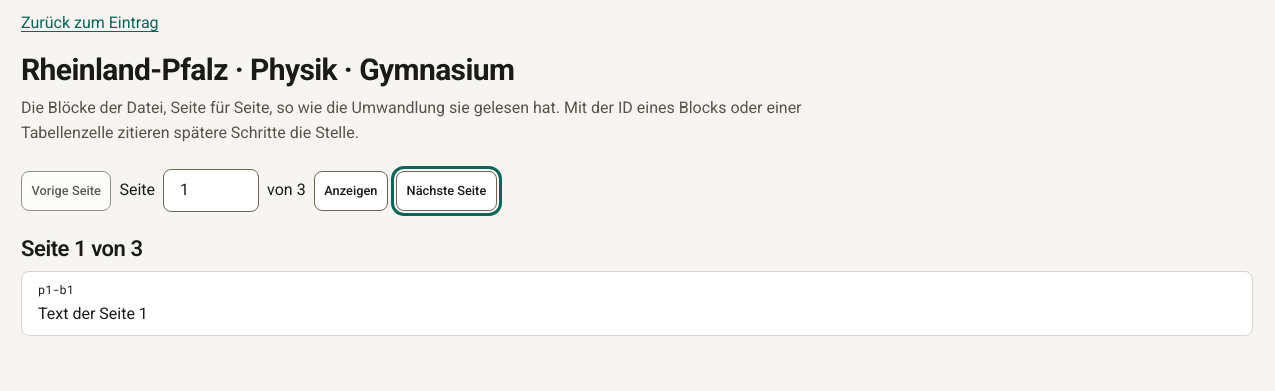
it: an entry's blocks › go to the next page and back by keyboard, the heading taking the focus and the move said
The image size is (1275, 391).
Step 1. Click the button with test id "next" → [446, 191], box 396,171 -> 497,211
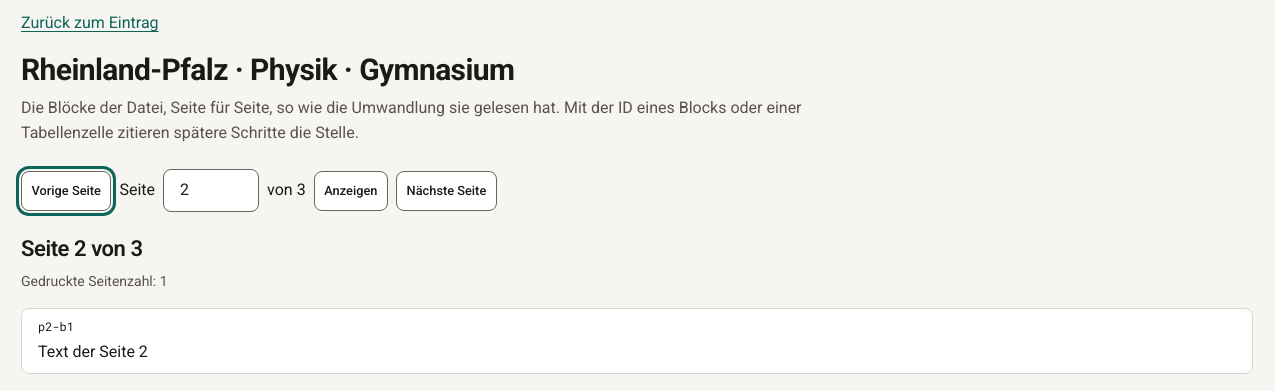
Step 2. Click the button with test id "previous" → [66, 191], box 21,171 -> 112,211
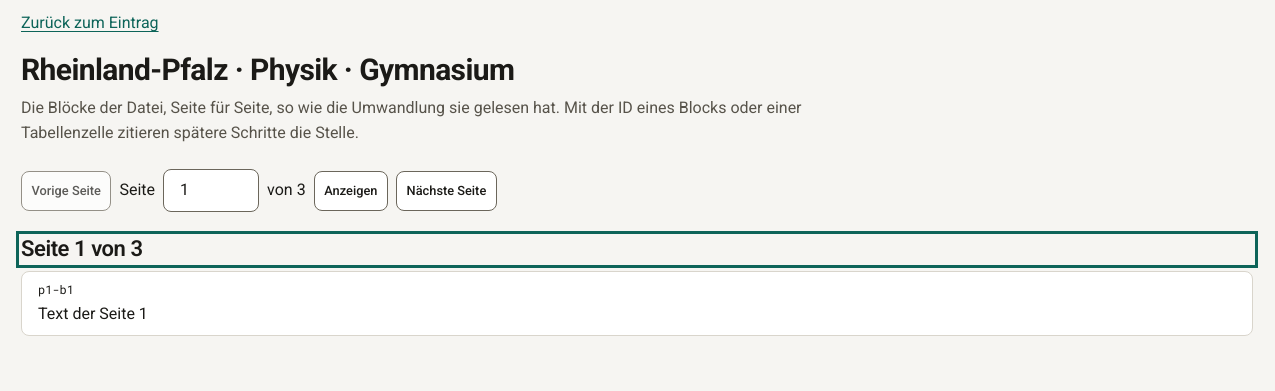
Result: the text with class "block__id" reads "p1-b1" at 38,281 -> 74,297
